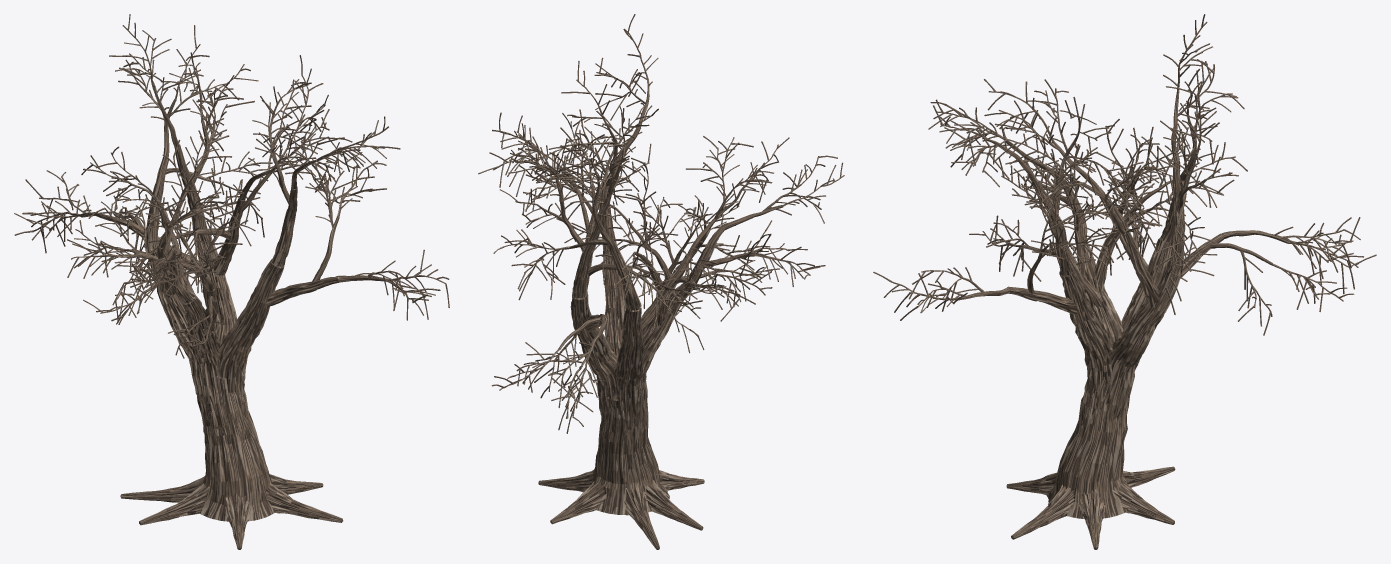
Rendered from Tree_Bark.fbx.
3 views of the same model, side by side, from view 1: azimuth 30°, elevation 25°; view 2: azimuth 150°, elevation 25°; view 3: azimuth 270°, elevation 25° (orthographic). The views are drawn at different scales.
Visible parts, largest first — view 1: Tree_Bark; view 2: Tree_Bark; view 3: Tree_Bark.
Boxes of the visible parts, <box> form: Tree_Bark: <box>14,14,449,549</box>; Tree_Bark: <box>478,14,844,549</box>; Tree_Bark: <box>873,14,1376,549</box>.
Bounding box in the file's own units: 3.19 × 4.62 × 4.49.
